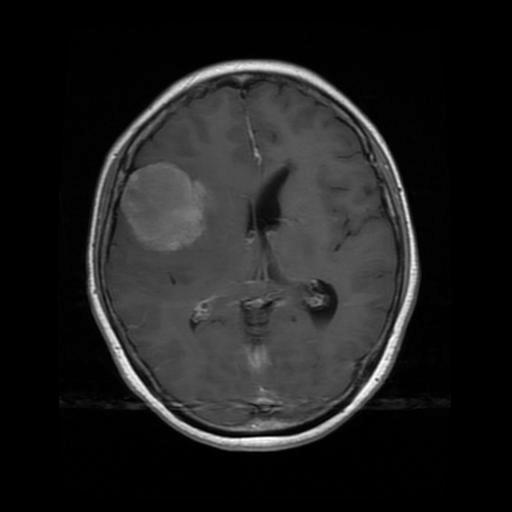Tumour-Pituitary: (116, 157, 224, 270)
